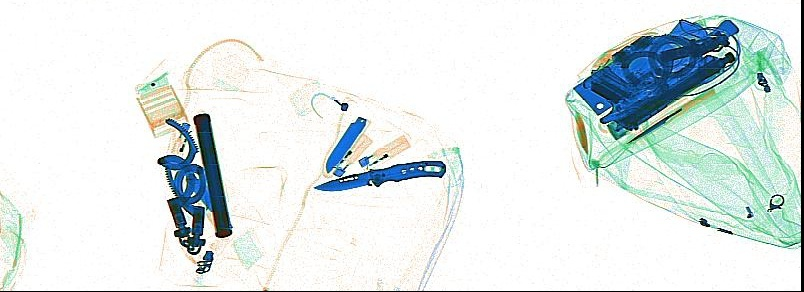handcuffs: (155, 117, 205, 255), (620, 29, 729, 91)
knife: (572, 17, 738, 116), (626, 85, 716, 142), (312, 158, 446, 190), (323, 112, 371, 173), (183, 170, 219, 213)
lighter: (357, 133, 411, 170), (332, 131, 371, 176), (168, 121, 190, 158)
zippooil: (653, 18, 706, 70)
